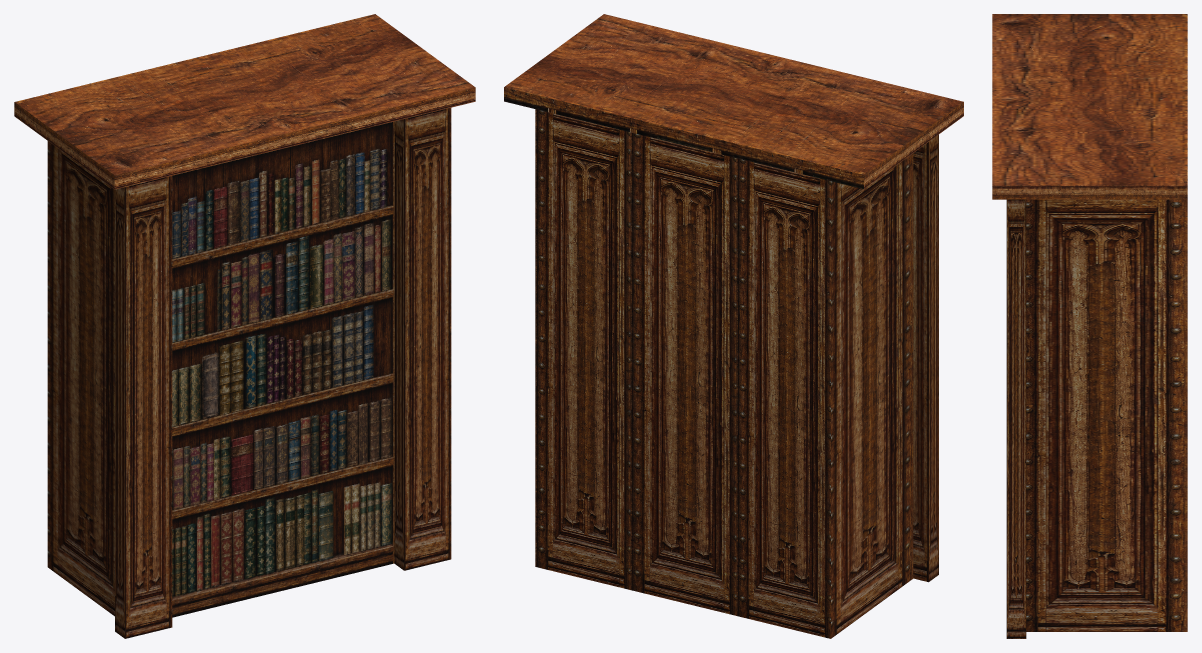
The model's file is mm9_deco_bookcase02ew.glb.
The picture shows the model from 3 angles, left to right: view 1: azimuth 30°, elevation 25°; view 2: azimuth 150°, elevation 25°; view 3: azimuth 270°, elevation 25°; orthographic projection. The views are drawn at different scales.
Parts seen in each view (by area): view 1: Bookcase02ew; view 2: Bookcase02ew; view 3: Bookcase02ew.
Boxes of the visible parts, <box> form: Bookcase02ew: <box>14,14,475,638</box>; Bookcase02ew: <box>504,14,963,638</box>; Bookcase02ew: <box>992,14,1187,638</box>.
Bounding box in the file's own units: 2.06 × 2.58 × 0.992.
2 materials, 2 textured.
